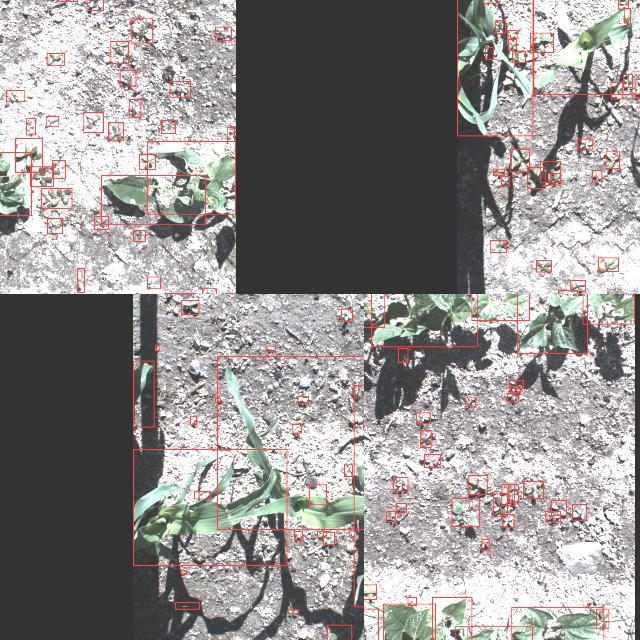crop: (217, 356, 364, 529), (133, 449, 287, 565), (457, 0, 533, 136), (533, 0, 640, 94), (148, 142, 236, 214), (370, 294, 477, 346), (102, 176, 206, 224), (518, 294, 588, 354), (0, 152, 31, 215), (383, 604, 435, 640), (432, 597, 472, 640), (583, 294, 634, 324), (471, 294, 529, 320), (132, 361, 154, 427)
weed: (512, 607, 604, 640), (15, 138, 42, 172), (452, 498, 480, 526), (42, 188, 72, 208), (132, 19, 152, 43), (530, 33, 554, 53), (31, 167, 54, 187), (510, 150, 530, 172), (83, 113, 103, 133), (540, 162, 560, 182), (110, 41, 128, 63), (527, 168, 545, 188), (309, 485, 327, 505), (328, 625, 352, 640), (468, 476, 488, 494), (492, 494, 508, 516), (170, 81, 190, 97), (108, 122, 124, 142), (523, 482, 543, 498), (598, 258, 618, 272), (596, 608, 610, 628), (502, 484, 514, 506), (120, 70, 136, 86), (139, 154, 155, 170), (551, 500, 567, 516), (47, 52, 65, 66), (52, 160, 66, 178), (215, 27, 232, 41), (48, 218, 62, 234), (606, 152, 620, 168), (182, 300, 198, 314), (424, 454, 440, 468), (572, 504, 586, 520), (392, 478, 408, 492), (6, 90, 24, 102), (129, 99, 141, 117), (161, 120, 175, 134), (490, 240, 506, 252), (536, 260, 552, 272), (611, 83, 623, 99), (94, 217, 108, 230), (421, 430, 431, 448), (508, 484, 518, 502), (578, 138, 592, 150), (502, 514, 514, 528), (364, 584, 375, 599), (87, 0, 103, 10), (26, 119, 36, 135), (416, 412, 430, 423), (78, 268, 84, 292), (148, 277, 160, 289), (133, 230, 145, 242), (323, 533, 335, 545), (175, 603, 199, 609), (570, 281, 584, 291), (495, 20, 505, 34), (398, 348, 408, 362), (546, 511, 560, 521), (46, 117, 59, 127), (194, 491, 210, 499), (508, 380, 524, 388), (550, 173, 560, 185), (592, 170, 602, 182), (484, 47, 494, 59), (512, 52, 524, 62), (342, 309, 352, 321), (227, 127, 235, 141), (624, 74, 632, 88), (507, 30, 517, 40), (500, 176, 510, 186), (386, 511, 396, 521), (396, 503, 406, 513), (624, 8, 630, 24), (344, 465, 352, 477), (507, 394, 519, 402), (292, 423, 302, 432), (465, 398, 475, 407), (508, 39, 516, 49), (618, 0, 628, 8), (298, 396, 308, 404), (294, 531, 302, 541), (558, 290, 577, 294), (636, 79, 640, 97), (482, 539, 488, 551), (408, 597, 417, 605), (203, 289, 217, 294), (494, 169, 504, 175), (266, 346, 276, 352), (317, 532, 327, 538), (510, 386, 520, 392), (190, 416, 196, 424), (288, 609, 298, 613), (483, 0, 496, 3), (215, 398, 221, 402), (180, 571, 186, 575), (155, 346, 159, 350)
